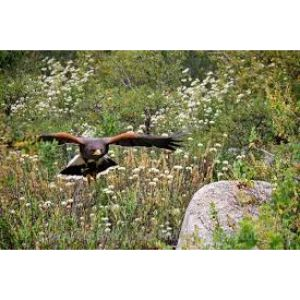hawk: (18, 121, 192, 185)
